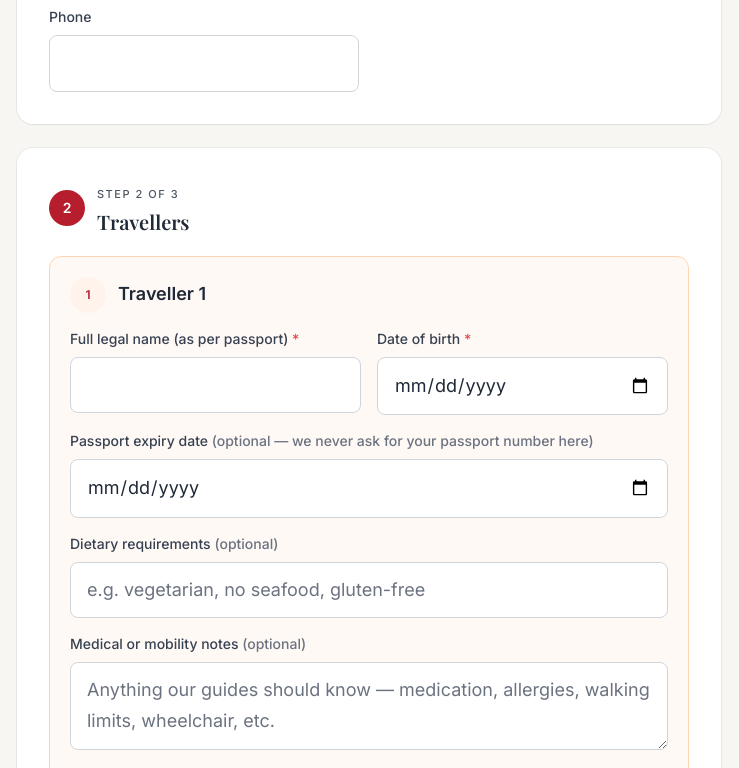
Test: travellers flow › shows a tick once name and date of birth are filled
(page scrolled)
Type "Alice" into the field with id "fullName-0" at (216, 385), box [70,356,361,413]
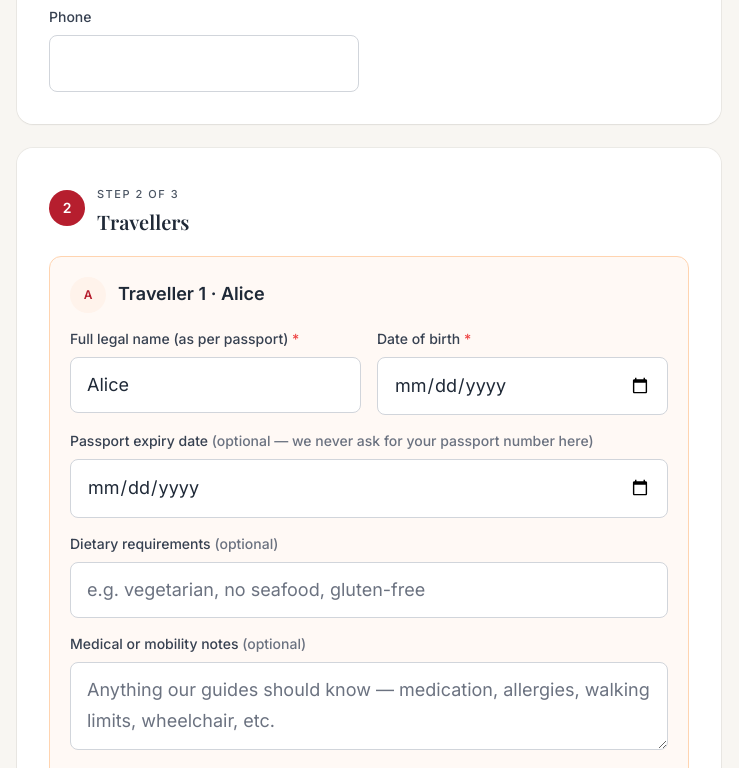
Type "1960-01-01" into the date field labelled "Date of birth *" at (522, 386), box [377,356,668,415]
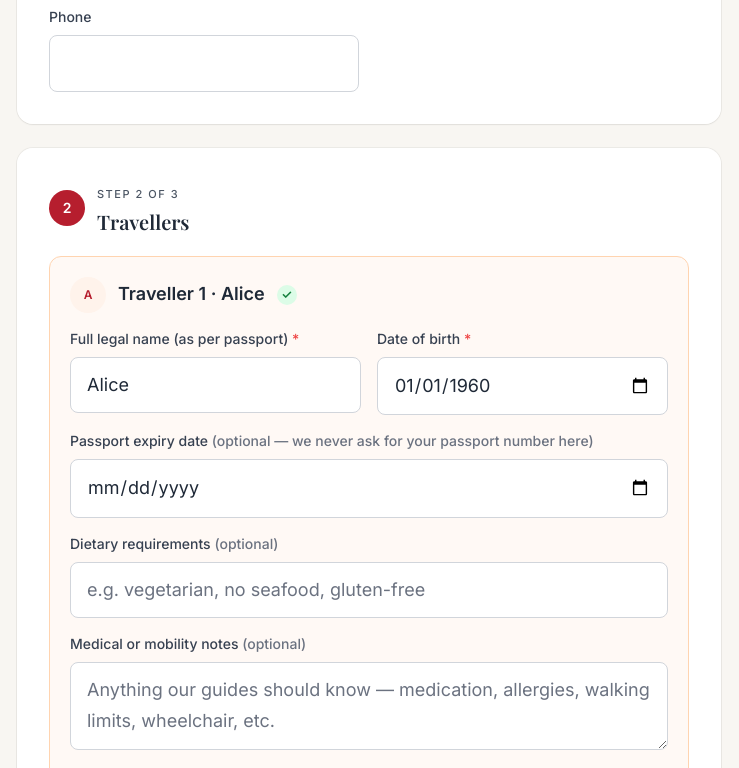
Result: the text named "Complete" is shown at [277,284,297,304]
